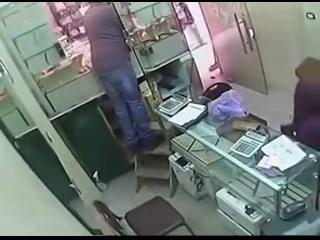Normal: (82, 3, 164, 154)
